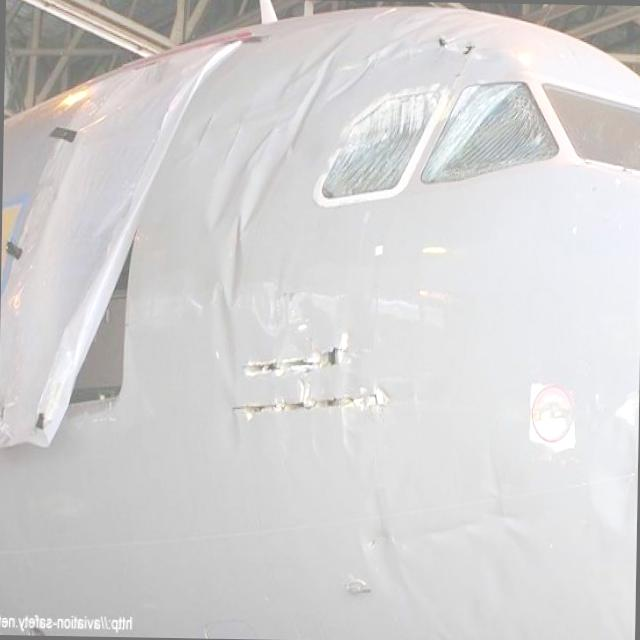crack: (216, 324, 397, 428)
